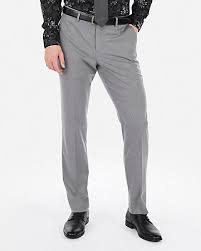F_belt: (59, 6, 138, 27)
